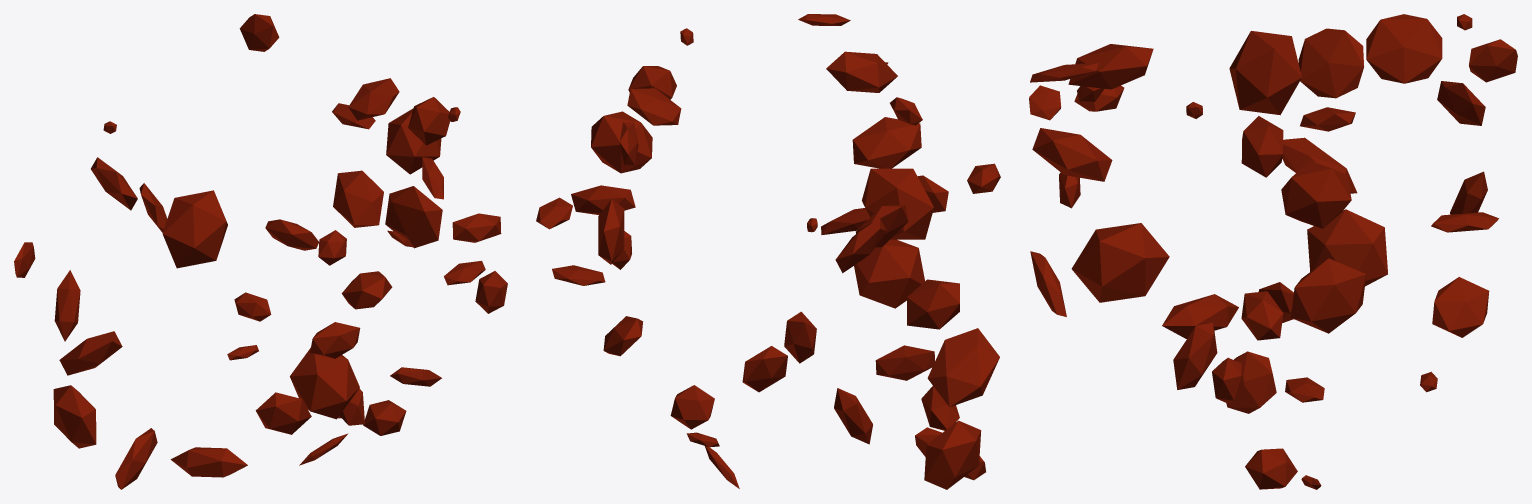
File: asteroid1_iron.obj
3 renders of one model, left to right at view 1: azimuth 30°, elevation 25°; view 2: azimuth 150°, elevation 25°; view 3: azimuth 270°, elevation 25°, orthographic. The views are drawn at different scales.
Visible parts, largest first — view 1: Icosphere; view 2: Icosphere; view 3: Icosphere.
Boxes of the visible parts, left/top/right/bottom form: Icosphere: left=14, top=14, right=507, bottom=489; Icosphere: left=536, top=14, right=1000, bottom=489; Icosphere: left=1029, top=14, right=1517, bottom=489.
Bounding box in the file's own units: 2.62 × 2.34 × 2.23.
